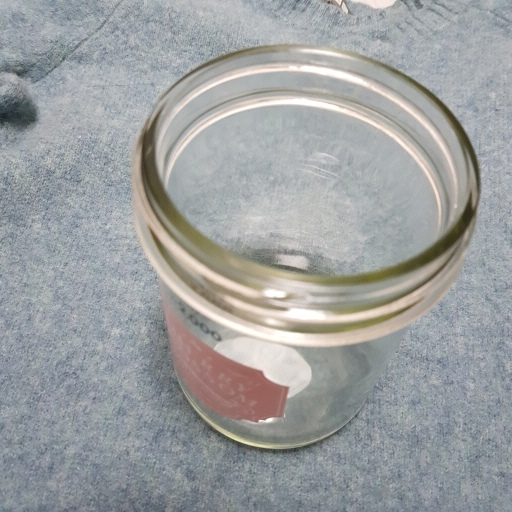Glass_5: (131, 45, 481, 454)
